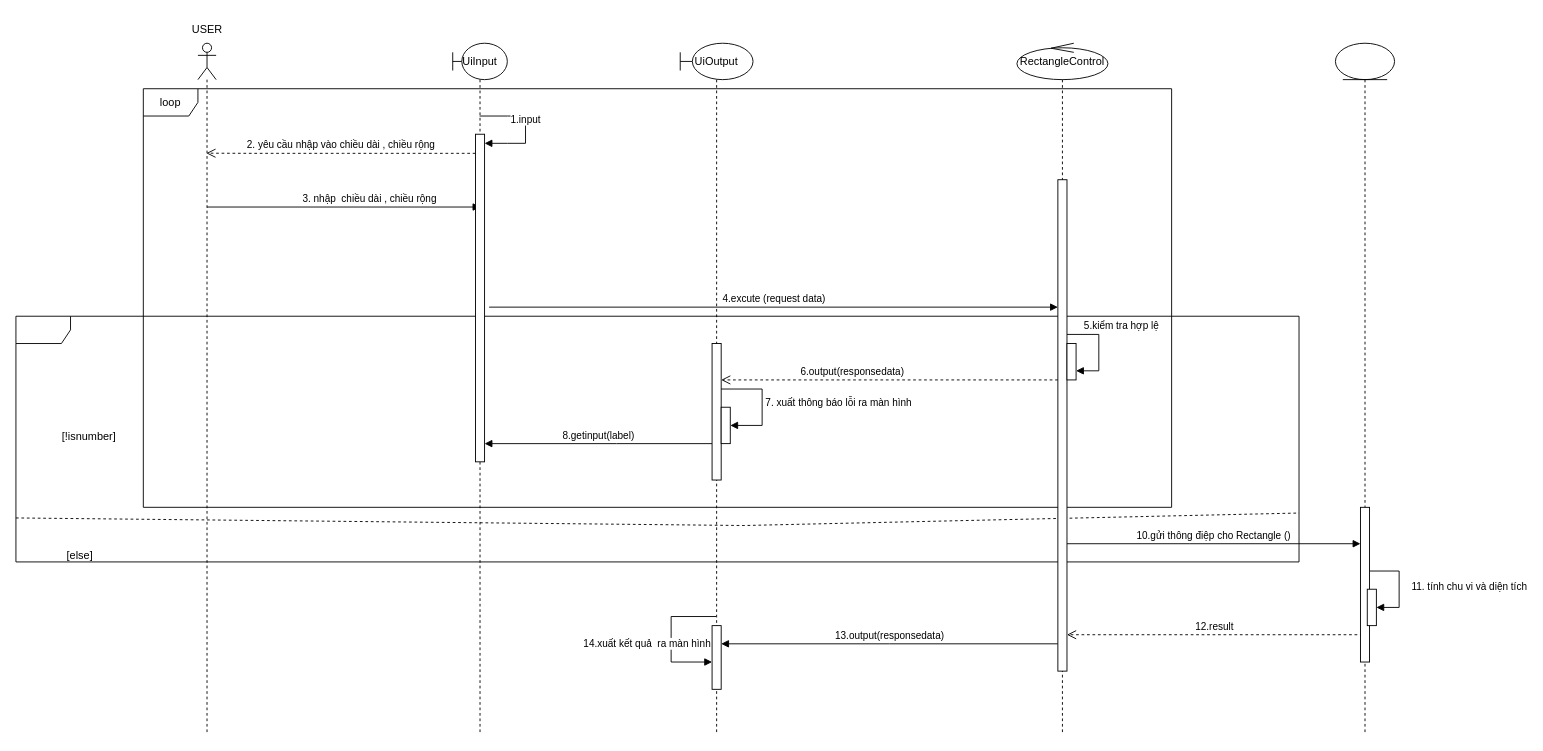
The diagram is 1543 pixels wide and 751 high, and some of its shapes have lost their labels. The box of each missing label's shape, as (x1, y1, x2, y2) in pixels:
alt: (15, 315, 1299, 562)
Rectangle: (1335, 42, 1395, 735)
